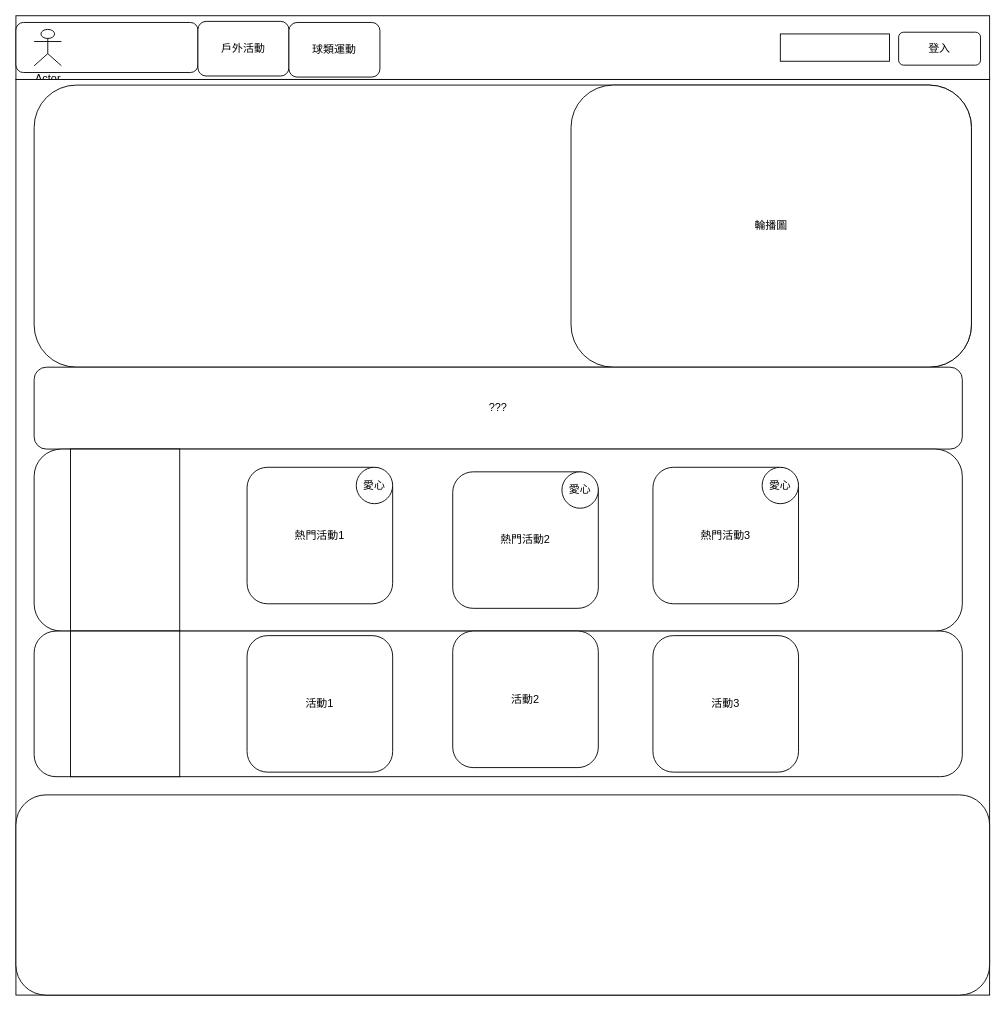
The diagram is 1006 pixels wide and 1012 high, and some of its shapes have lost their labels. The box of each missing label's shape, as (x1, y1, x2, y2) in pixels:
TOP3 活動: (70, 448, 180, 631)
喊口號: (33, 84, 971, 367)
已開團活動: (70, 630, 180, 777)
網頁名稱: (15, 22, 198, 73)
聯絡方式: (15, 794, 990, 995)
首頁標籤: (15, 15, 990, 79)
